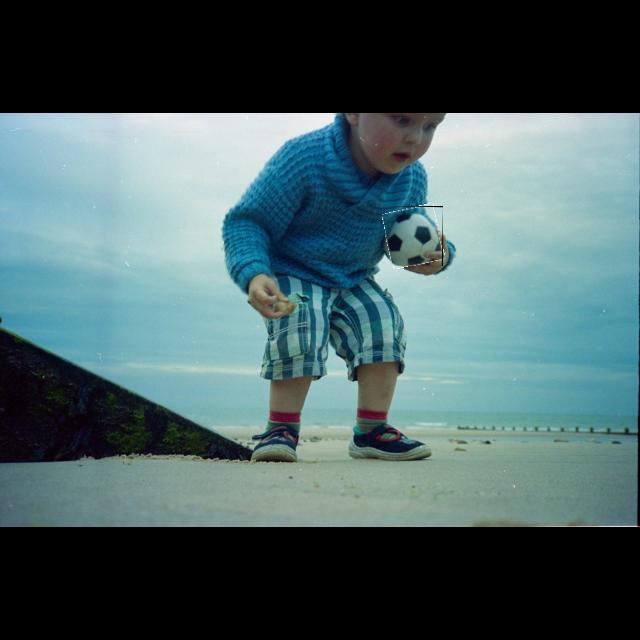Football: (385, 206, 443, 266)
